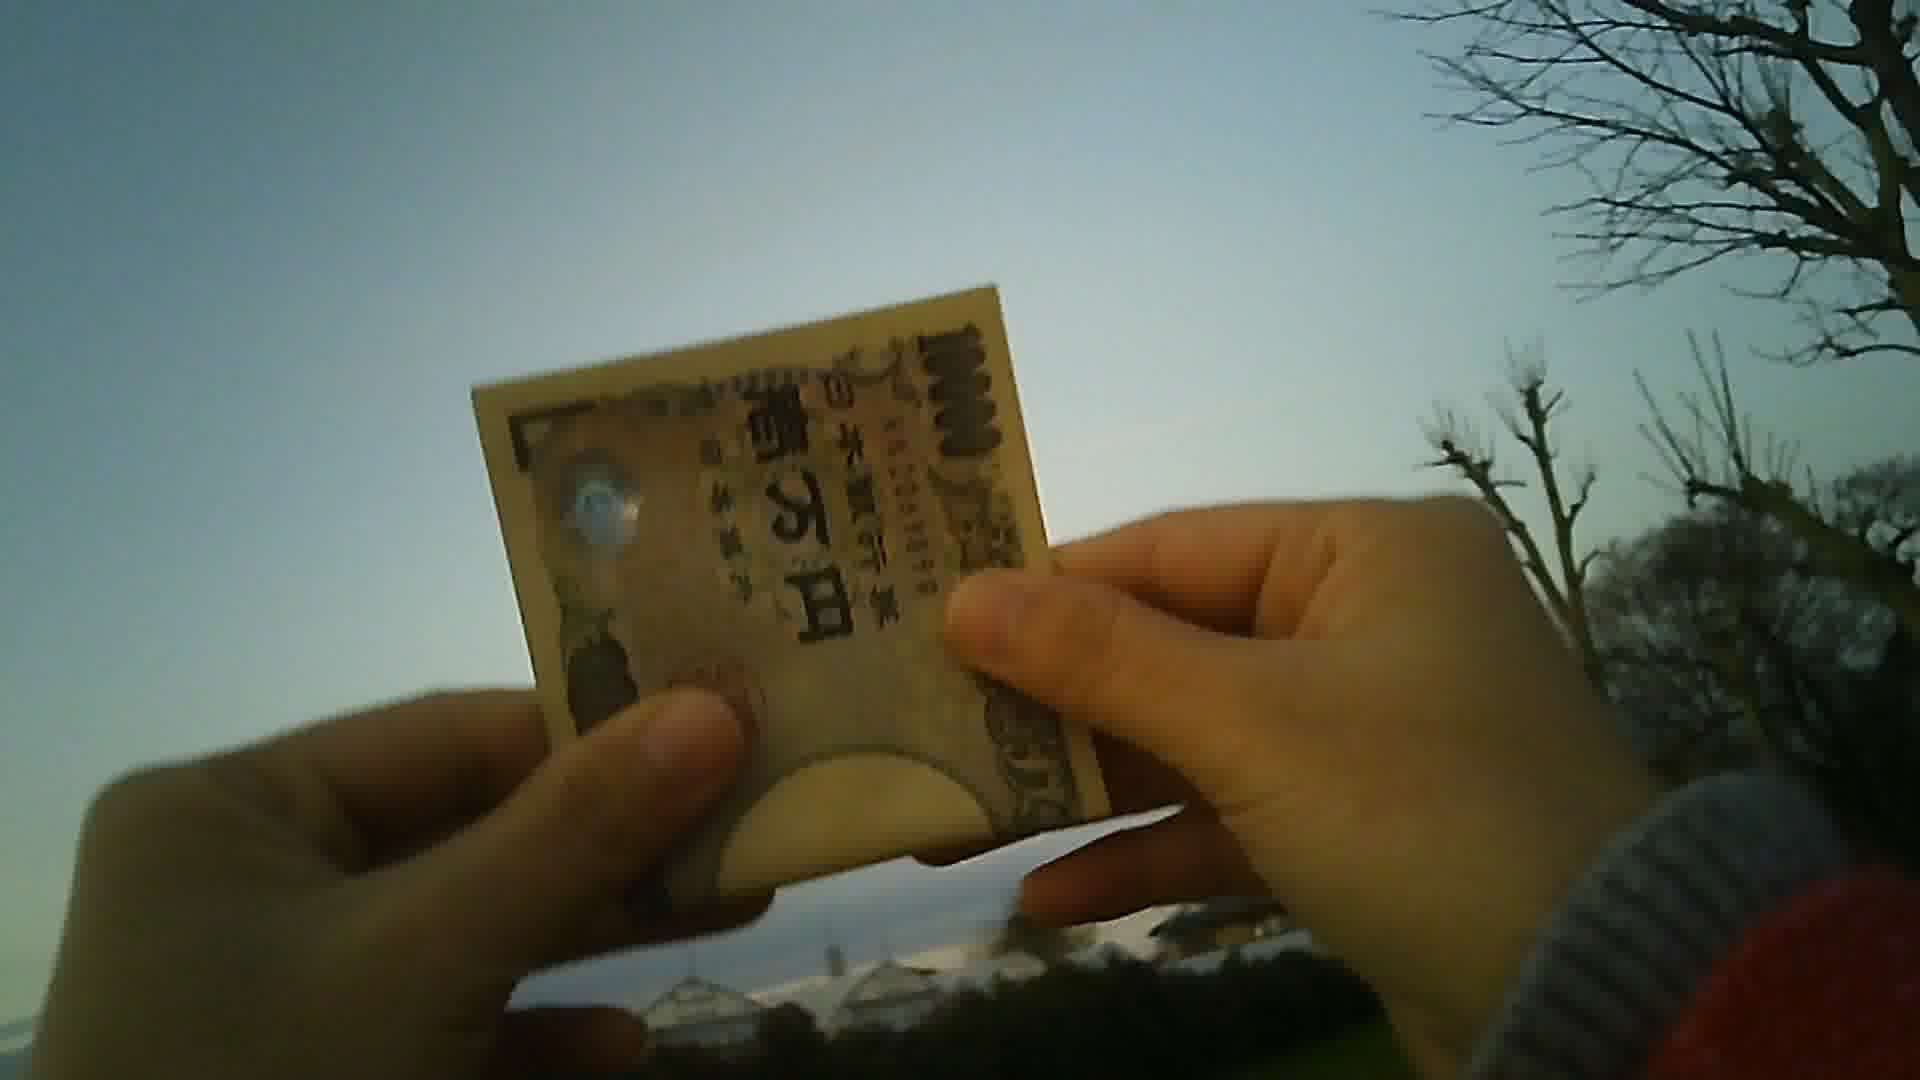10,000 Yen: (419, 280, 1134, 948)
